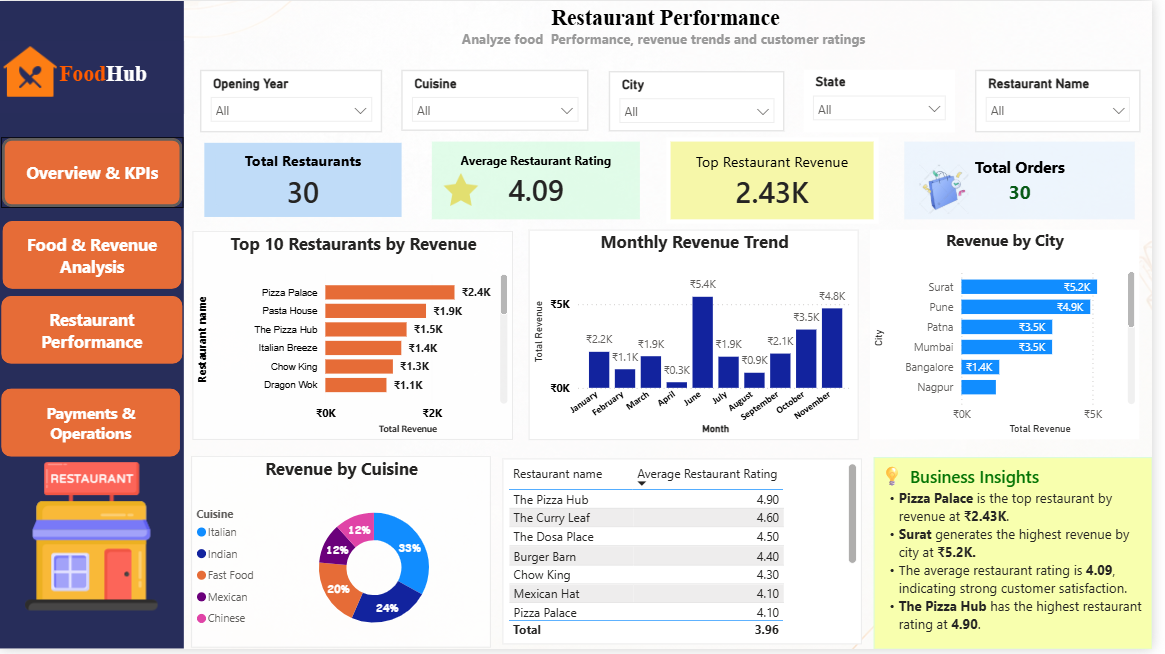

The page's visual inventory and layout, read from the dashboard file:
{"tool":"powerbi","page":{"name":"Restaurant Performance ","canvas":[1280,720],"ordinal":2},"visuals":[{"type":"shape","box":[0,0,204.4,719.4],"z":0},{"type":"textbox","box":[212.8,0,1053.8,60.1],"z":1000},{"type":"textbox","title":"FoodHub","box":[0,43.9,204.9,80.5],"z":2000},{"type":"cardVisual","title":"Top Revenue Food","fields":{"Data":["Order_detail.Total Orders"]},"box":[1000.6,151.5,266,96],"z":2000,"group":"g4"},{"type":"clusteredBarChart","title":"Top 10  Restaurants  by Revenue","fields":{"Category":["Restaurants_Details.Restaurant name"],"Y":["Order_detail.Total Revenue"]},"box":[214,255.7,356.3,232.2],"z":2000,"group":"g2"},{"type":"image","box":[2.3,44,61.3,70.6],"z":3000},{"type":"donutChart","title":"Revenue by Cuisine","fields":{"Category":["Restaurants_Details.Cuisine"],"Y":["Order_detail.Total Revenue"]},"box":[212.6,505.3,332.6,212.7],"z":3000,"group":"g5"},{"type":"actionButton","box":[2.7,244.2,199,75.5],"z":4000,"group":"g1"},{"type":"textbox","box":[970.8,506.8,309.6,213.6],"z":4000},{"type":"group","id":"g1","title":"Group 2","box":[2,151.2,202.4,354.9],"z":5000},{"type":"actionButton","box":[2,151.2,202.3,78.7],"z":6000,"group":"g1"},{"type":"cardVisual","fields":{"Data":["Order_detail.Average Restaurant Rating"]},"box":[475,151.5,241.7,96],"z":6000,"group":"g4"},{"type":"group","id":"g2","title":"Group 3","box":[214,254.5,1052.6,234.3],"z":6000},{"type":"actionButton","title":"Payments  &","box":[2.4,430.5,198.8,75.6],"z":6500,"group":"g1"},{"type":"image","box":[13.9,505.5,174.7,178.2],"z":7000},{"type":"tableEx","title":"Average Rating by Restaurant ","fields":{"Values":["Restaurants_Details.Restaurant name","Order_detail.Average Restaurant Rating"]},"box":[558.2,508.6,399.5,206.2],"z":7000,"group":"g5"},{"type":"image","box":[485.8,187.4,52.1,44],"z":8000},{"type":"image","box":[239.4,190.9,63.6,45.1],"z":9000},{"type":"slicer","fields":{"Values":["Restaurants_Details.Opening_Year"]},"box":[222.1,76.7,202.4,69.4],"z":10000,"group":"g3"},{"type":"image","box":[1015.6,181.6,67.1,54.4],"z":10000},{"type":"slicer","fields":{"Values":["Restaurants_Details.City"]},"box":[676.1,77.9,195.5,67.1],"z":11000,"group":"g3"},{"type":"image","box":[757.6,192,46.3,44],"z":11000},{"type":"columnChart","title":"Monthly Revenue Trend","fields":{"Y":["Order_detail.Total Revenue"],"Category":["Order_detail.Order_Date.Variation.Date Hierarchy.Month"]},"box":[587.6,255.1,366.7,233.7],"z":11000,"group":"g2"},{"type":"actionButton","box":[2,327.9,201.3,75.2],"z":11500,"group":"g1"},{"type":"group","id":"g3","title":"Group 1","box":[222.1,76.7,1044.5,69.4],"z":12000},{"type":"slicer","fields":{"Values":["Restaurants_Details.Restaurant name"]},"box":[1082.7,76.7,183.9,69.4],"z":12000,"group":"g3"},{"type":"barChart","title":"Revenue by City","fields":{"Y":["Order_detail.Total Revenue"],"Category":["Restaurants_Details.City"]},"box":[967,254.5,299.6,232.5],"z":12000,"group":"g2"},{"type":"slicer","title":"Cuisine ","fields":{"Values":["Restaurants_Details.Cuisine"]},"box":[446.2,77.3,208.2,68.2],"z":13000,"group":"g3"},{"type":"group","id":"g4","title":"Group 4","box":[222.1,151.5,1044.5,96],"z":13000},{"type":"cardVisual","fields":{"Data":["Order_detail.Total Restaurants"]},"box":[222.1,153.2,229,92.5],"z":13000,"group":"g4"},{"type":"group","id":"g5","title":"Group 5","box":[212.6,505.3,745.2,212.7],"z":14000},{"type":"cardVisual","fields":{"Data":["Restaurants_Details.Top Restaurant Revenue"]},"box":[740.7,151.5,236,96],"z":16000,"group":"g4"},{"type":"slicer","fields":{"Values":["Restaurants_Details.State"]},"box":[893.3,76.7,167.7,69.4],"z":18002,"group":"g3"}]}

Visuals, with their boxes in screenshot pixels (x1, y1, x2, y2), scaled from the page's 1280x720 canvas onto the 1165x654 screenshot:
shape: select_region(0, 0, 186, 653)
textbox: select_region(194, 0, 1153, 55)
"FoodHub" textbox: select_region(0, 40, 186, 113)
"Top Revenue Food" cardVisual: select_region(911, 138, 1153, 225)
"Top 10  Restaurants  by Revenue" clusteredBarChart: select_region(195, 232, 519, 443)
image: select_region(2, 40, 58, 104)
"Revenue by Cuisine" donutChart: select_region(193, 459, 496, 652)
actionButton: select_region(2, 222, 184, 290)
textbox: select_region(884, 460, 1164, 653)
"Group 2" group: select_region(2, 137, 186, 460)
actionButton: select_region(2, 137, 186, 209)
cardVisual - Order_detail.Average Restaurant Rating: select_region(432, 138, 652, 225)
"Group 3" group: select_region(195, 231, 1153, 444)
"Payments  &" actionButton: select_region(2, 391, 183, 460)
image: select_region(13, 459, 172, 621)
"Average Rating by Restaurant " tableEx: select_region(508, 462, 872, 649)
image: select_region(442, 170, 490, 210)
image: select_region(218, 173, 276, 214)
slicer - Restaurants_Details.Opening_Year: select_region(202, 70, 386, 133)
image: select_region(924, 165, 985, 214)
slicer - Restaurants_Details.City: select_region(615, 71, 793, 132)
image: select_region(690, 174, 732, 214)
"Monthly Revenue Trend" columnChart: select_region(535, 232, 869, 444)
actionButton: select_region(2, 298, 185, 366)
"Group 1" group: select_region(202, 70, 1153, 133)
slicer - Restaurants_Details.Restaurant name: select_region(985, 70, 1153, 133)
"Revenue by City" barChart: select_region(880, 231, 1153, 442)
"Cuisine " slicer: select_region(406, 70, 596, 132)
"Group 4" group: select_region(202, 138, 1153, 225)
cardVisual - Order_detail.Total Restaurants: select_region(202, 139, 411, 223)
"Group 5" group: select_region(193, 459, 872, 652)
cardVisual - Restaurants_Details.Top Restaurant Revenue: select_region(674, 138, 889, 225)
slicer - Restaurants_Details.State: select_region(813, 70, 966, 133)
